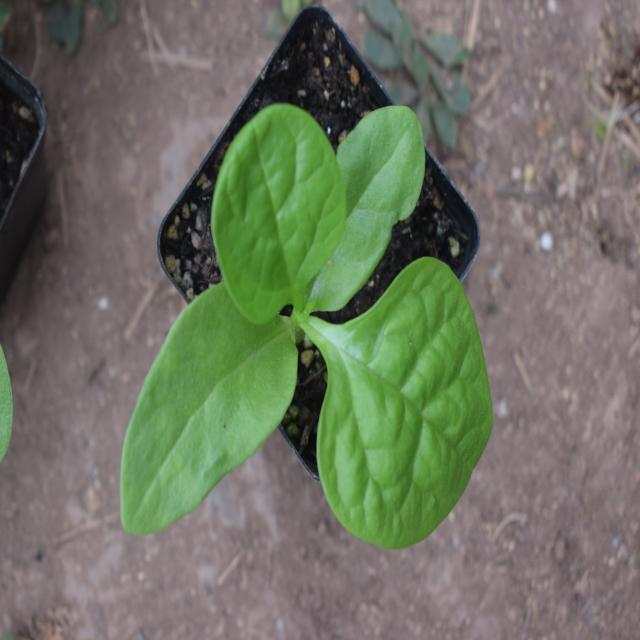Ceylon spinach: (128, 109, 494, 553)
